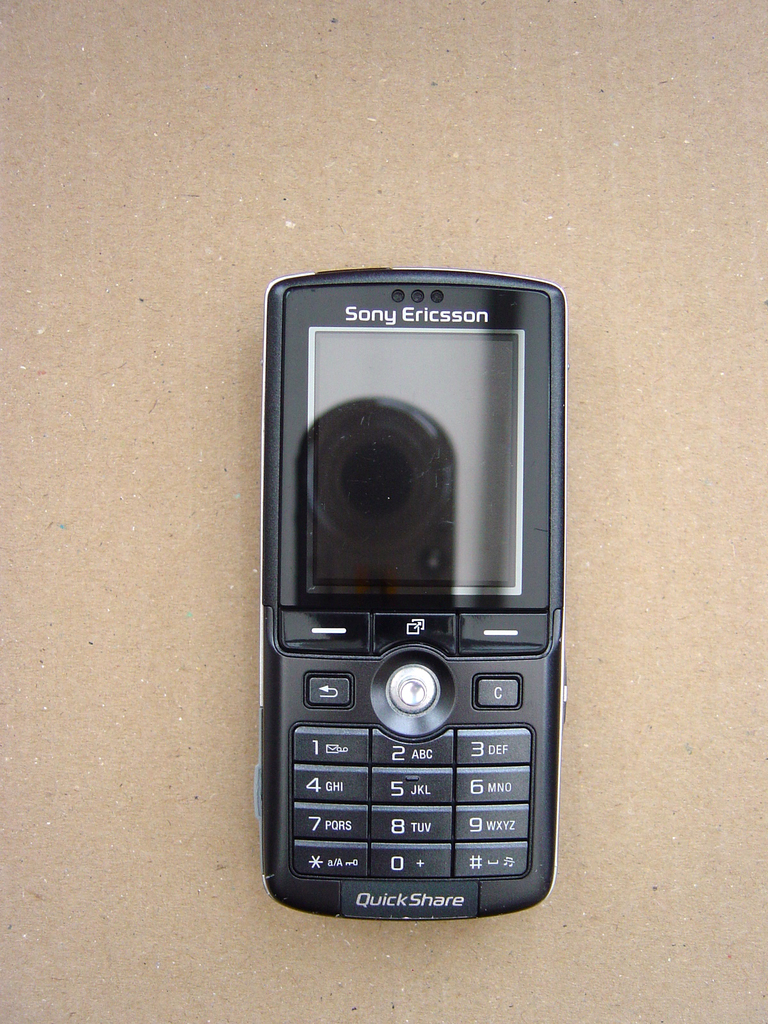Mobile-phone: (253, 259, 573, 909)
